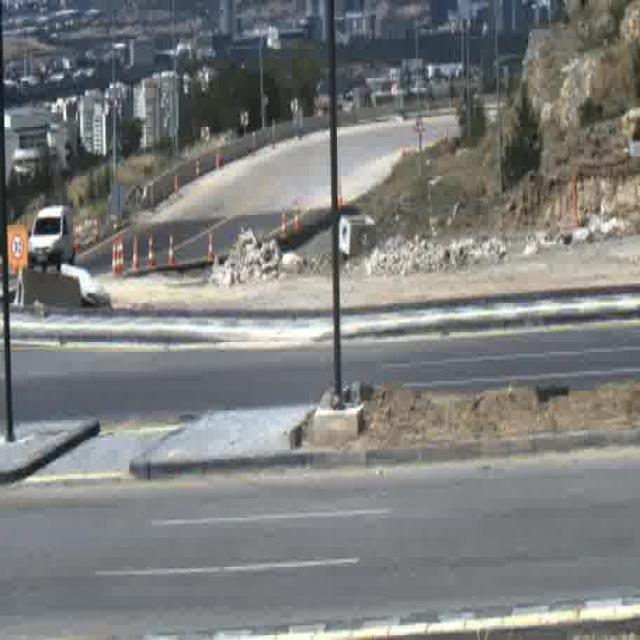Car: (29, 202, 74, 274)
